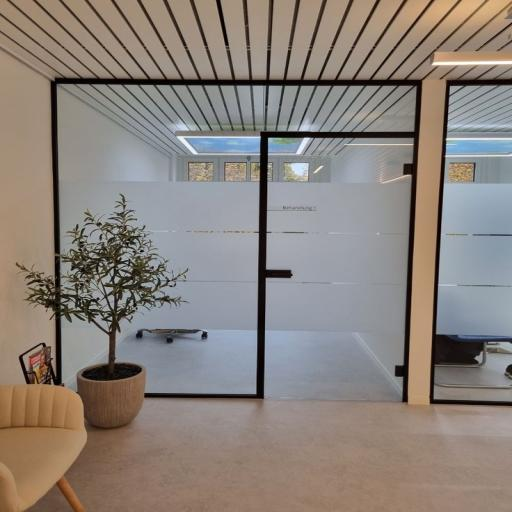bus: (0, 381, 95, 512)
elevator: (54, 75, 415, 406), (430, 75, 512, 404)
